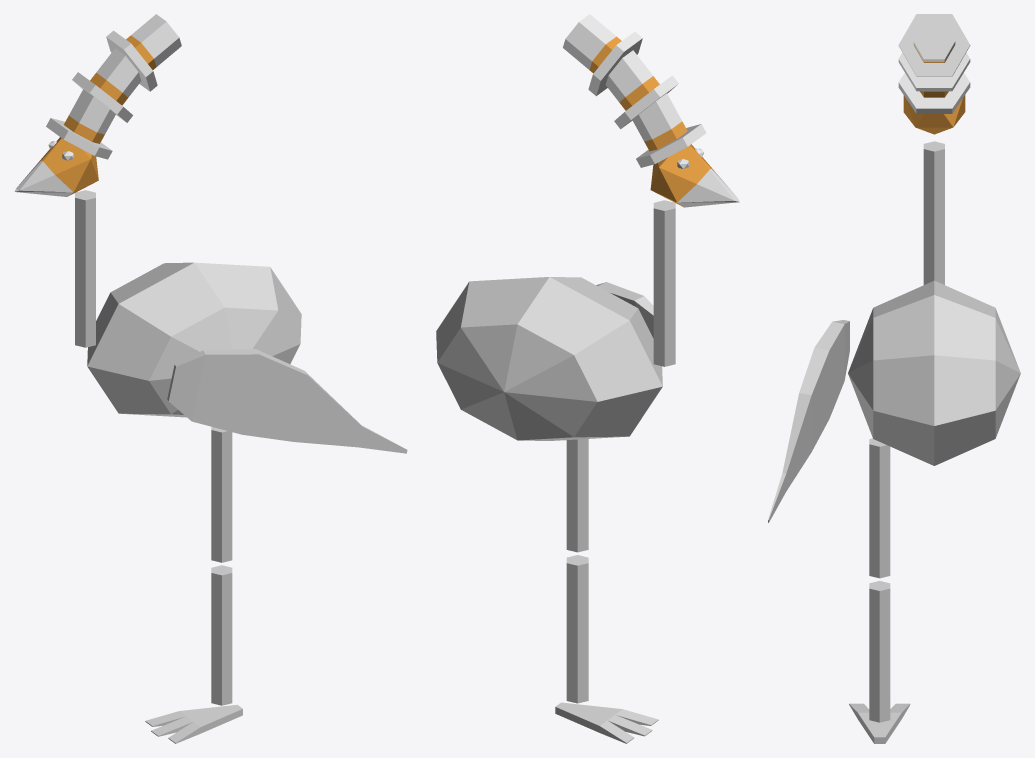
Rendered from Ostrich.fbx.
3 renders of one model, left to right at view 1: azimuth 30°, elevation 25°; view 2: azimuth 150°, elevation 25°; view 3: azimuth 270°, elevation 25°, orthographic. The views are drawn at different scales.
Visible parts, largest first — view 1: Sphere, Cube, Cylinder, Cylinder.002, Cylinder.001, Cylinder.005, Cylinder.003, Cylinder.004, Cube.001, Icosphere, Icosphere.002; view 2: Sphere, Cylinder, Cylinder.002, Cylinder.005, Cylinder.003, Cylinder.004, Cylinder.001, Cube.001, Icosphere, Icosphere.002, Cube; view 3: Sphere, Cube, Cylinder.005, Cylinder, Cylinder.002, Cylinder.001, Cylinder.003, Cube.001, Cylinder.004, Icosphere.
Boxes of the visible parts, <box> form: Sphere: <box>87,262,301,417</box>; Cube: <box>167,349,407,453</box>; Cylinder: <box>75,190,95,347</box>; Cylinder.002: <box>211,565,232,705</box>; Cylinder.001: <box>211,426,232,562</box>; Cylinder.005: <box>106,14,181,91</box>; Cylinder.003: <box>46,89,115,159</box>; Cylinder.004: <box>72,48,141,122</box>; Cube.001: <box>145,704,242,743</box>; Icosphere: <box>39,137,98,196</box>; Icosphere.002: <box>14,160,72,192</box>; Sphere: <box>436,277,662,440</box>; Cylinder: <box>653,200,675,366</box>; Cylinder.002: <box>566,555,588,703</box>; Cylinder.005: <box>563,14,642,96</box>; Cylinder.003: <box>632,93,706,167</box>; Cylinder.004: <box>605,50,678,129</box>; Cylinder.001: <box>566,439,588,552</box>; Cube.001: <box>555,702,658,743</box>; Icosphere: <box>650,144,713,206</box>; Icosphere.002: <box>677,169,739,202</box>; Cube: <box>596,282,653,338</box>; Sphere: <box>848,280,1020,465</box>; Cube: <box>768,320,849,522</box>; Cylinder.005: <box>898,14,970,76</box>; Cylinder: <box>923,141,944,284</box>; Cylinder.002: <box>869,581,890,722</box>; Cylinder.001: <box>869,438,890,578</box>; Cylinder.003: <box>898,73,970,113</box>; Cube.001: <box>849,703,910,743</box>; Cylinder.004: <box>898,52,970,91</box>; Icosphere: <box>903,95,965,134</box>.
Bounding box in the file's own units: 419 × 886 × 292.
